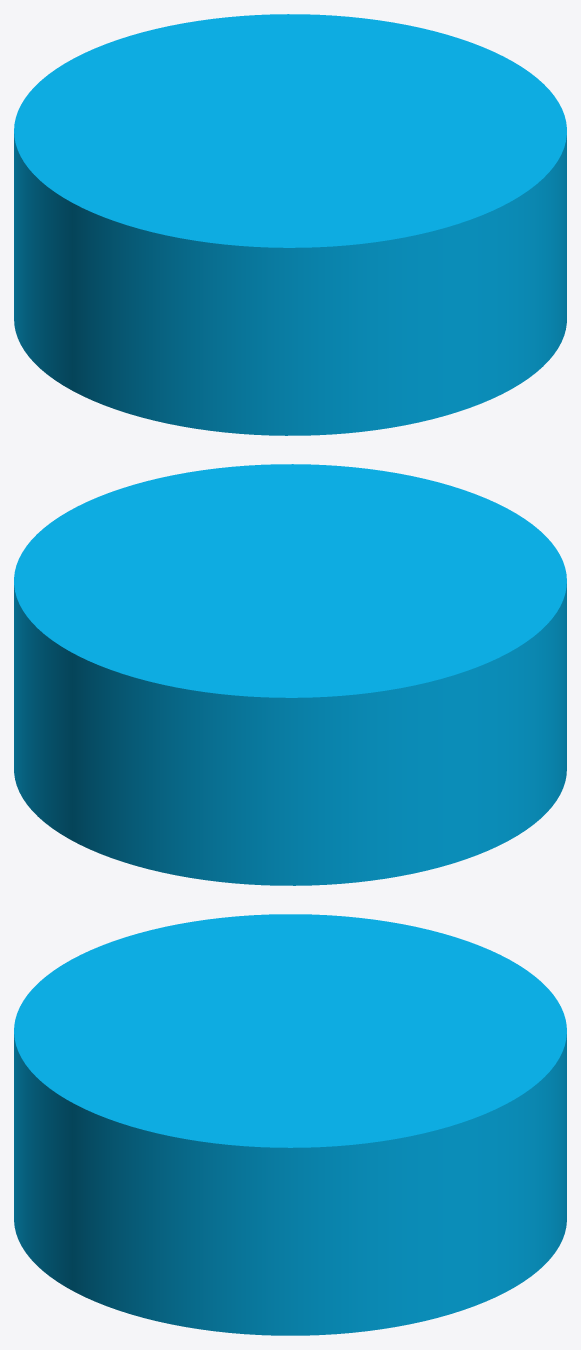
File: 2B_den_3B_ye_silindir.gltf
3 renders of one model, top to bottom at view 1: azimuth 30°, elevation 25°; view 2: azimuth 150°, elevation 25°; view 3: azimuth 270°, elevation 25°, orthographic.
Visible parts, largest first — view 1: Gövde; view 2: Gövde; view 3: Gövde.
Boxes of the visible parts, x1,y1,x2,y2 form: Gövde: (14, 14, 566, 435); Gövde: (14, 464, 566, 885); Gövde: (14, 914, 566, 1335).
Size of the model in its own units: 0.04 by 0.015 by 0.04.
